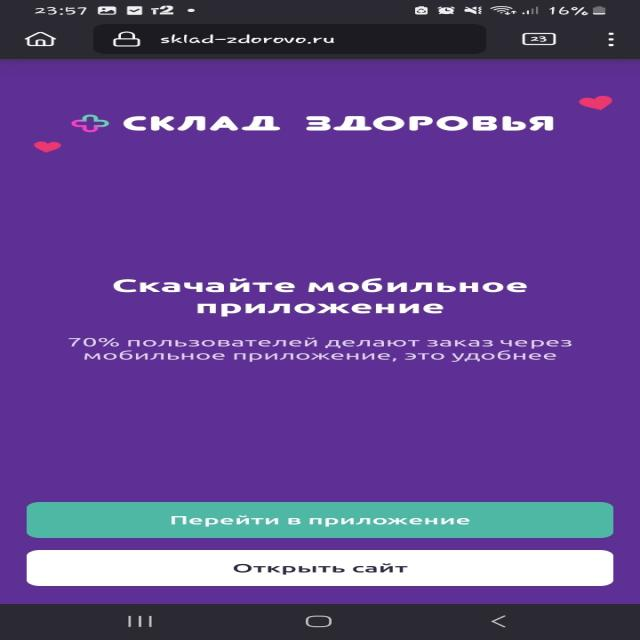button: (27, 502, 618, 539), (29, 550, 618, 585)
site: (0, 60, 640, 604)
